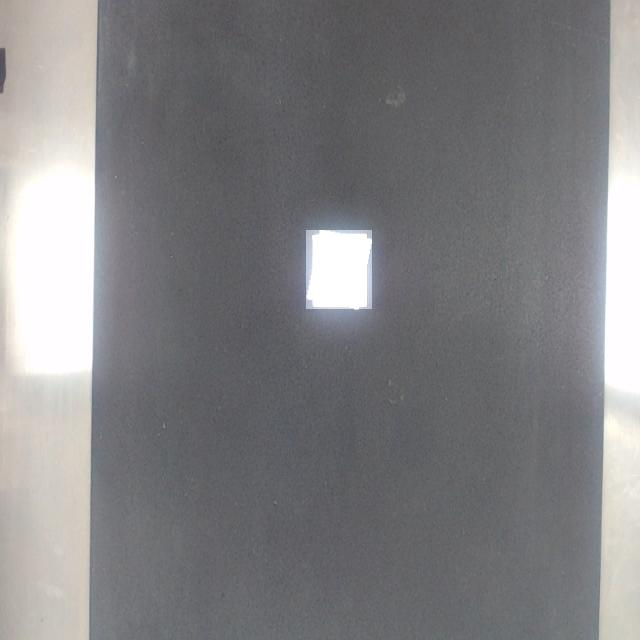Blanco: (306, 231, 372, 309)
